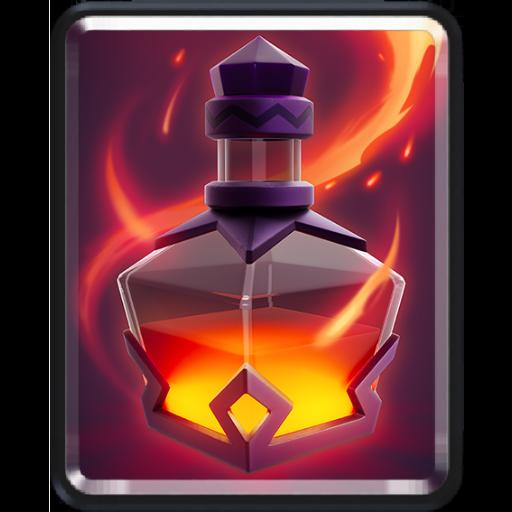void: (74, 25, 436, 481)
